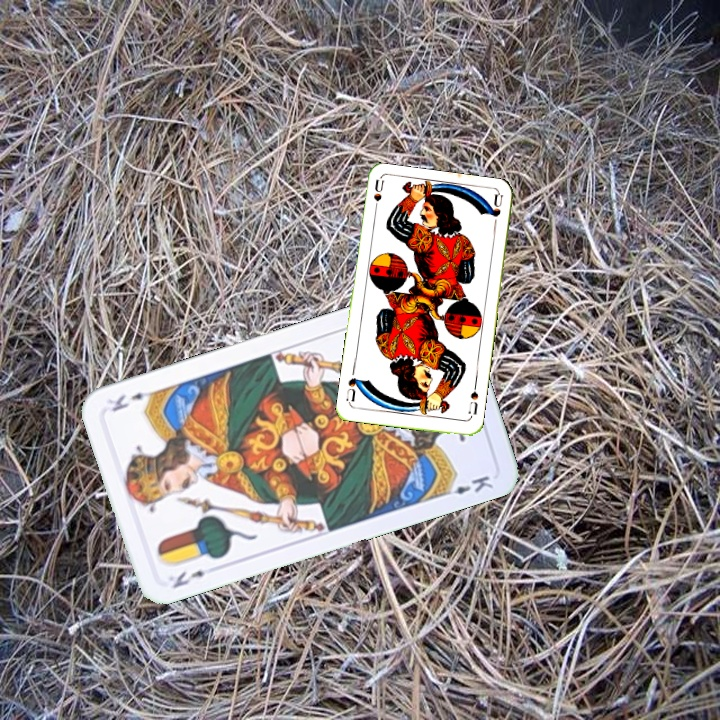EK: (168, 566, 208, 591)
SU: (370, 177, 386, 218), (464, 380, 481, 417)
